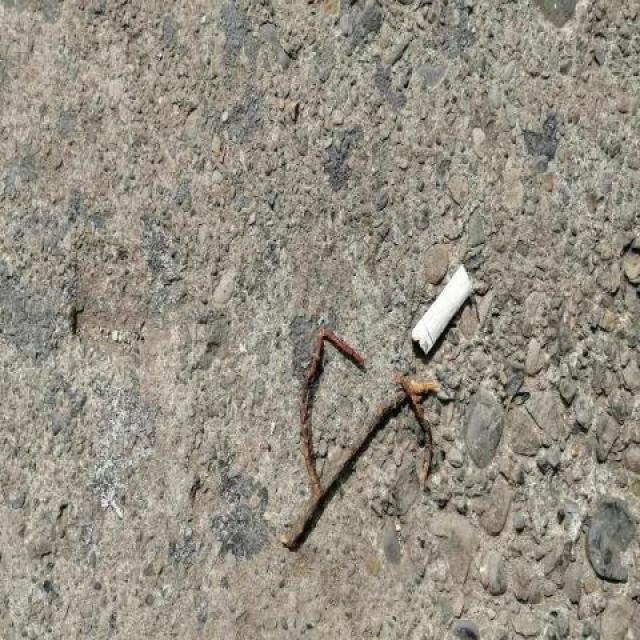non-organic waste: (408, 259, 476, 362)
